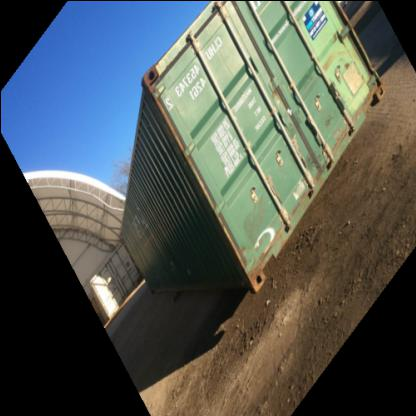Damage: (244, 192, 282, 242), (303, 146, 327, 182), (326, 101, 334, 135)
